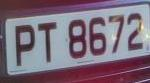2: (124, 11, 145, 54)
6: (87, 11, 110, 62)
7: (107, 10, 128, 59)
8: (65, 13, 90, 66)
P: (11, 20, 38, 73)
T: (36, 19, 61, 69)
